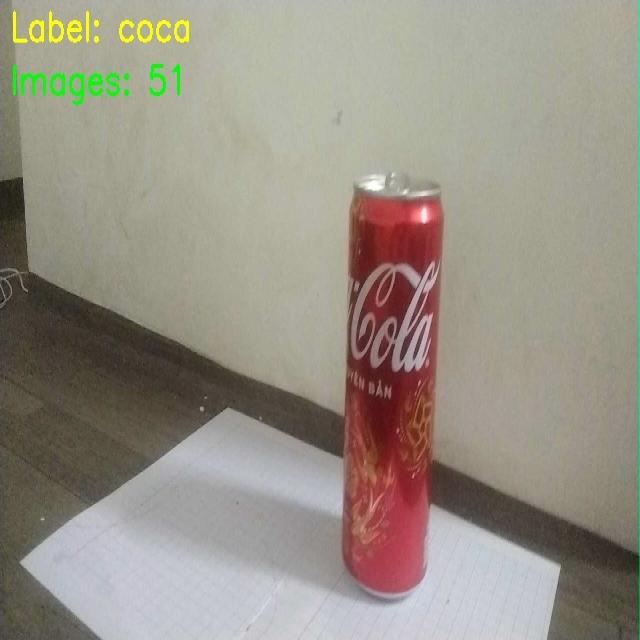Coca: (317, 152, 470, 612)
